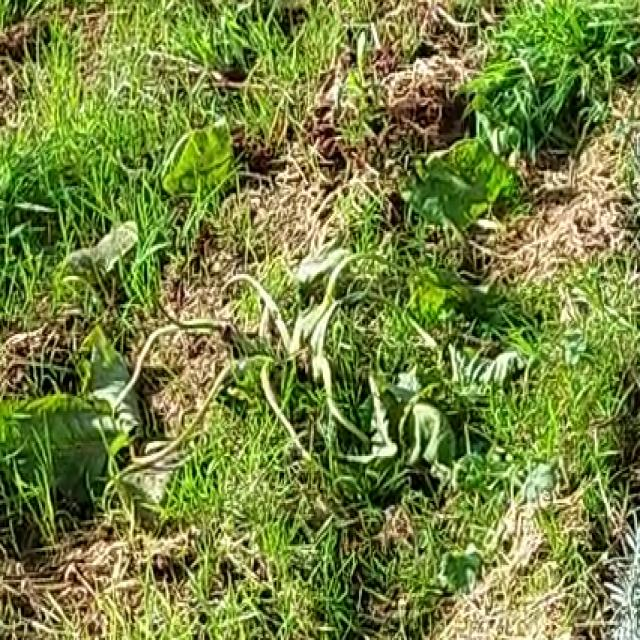organic waste: (24, 71, 547, 552)
